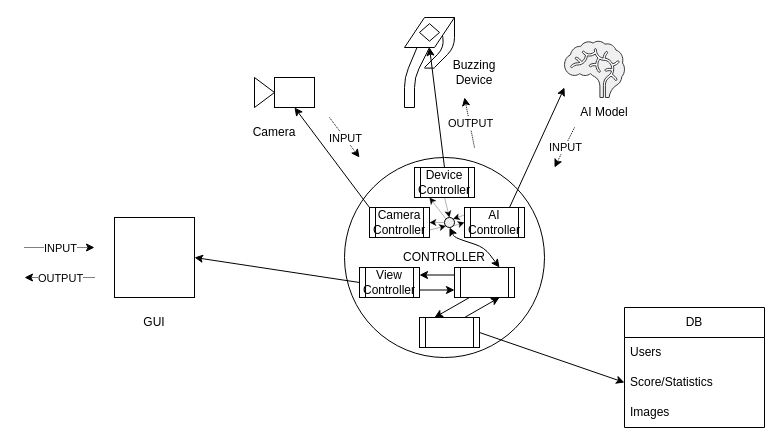
This 782x445 diagram has some shape labels left out. Each missing label, with the centre of its shape:
Main Controller: the point at 484,282
model Controller: the point at 449,332
VIEW: the point at 154,257
